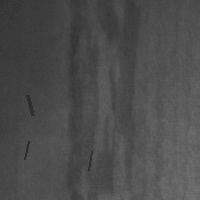inclusion: (69, 1, 140, 200), (25, 93, 34, 117), (22, 139, 30, 161), (86, 149, 93, 172)
